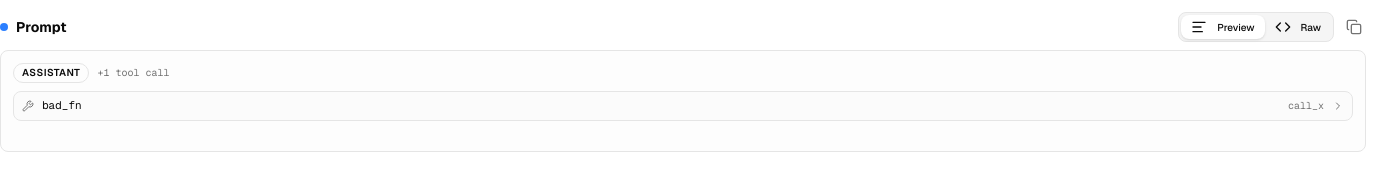
it: RequestPreview › LogToolCallCard shows raw string for invalid JSON arguments
Click the button "bad_fn call_x": (62, 105) [14,92,1352,120]
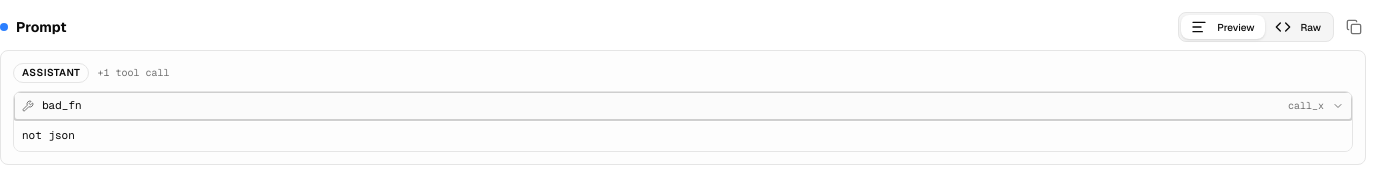
Expected: the text "not json" is shown, [14,120,1352,151]
